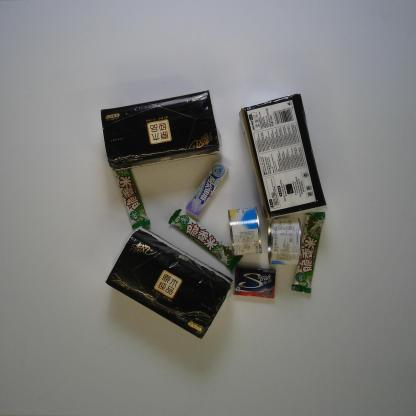Candy: (185, 161, 229, 217)
Canned Food: (267, 217, 302, 267), (228, 206, 262, 256)
Chocolate: (168, 208, 244, 272), (290, 211, 326, 295), (113, 163, 151, 230)
Gum: (233, 266, 276, 299)
Tissue: (105, 224, 233, 340), (238, 92, 328, 221), (100, 89, 221, 172)
